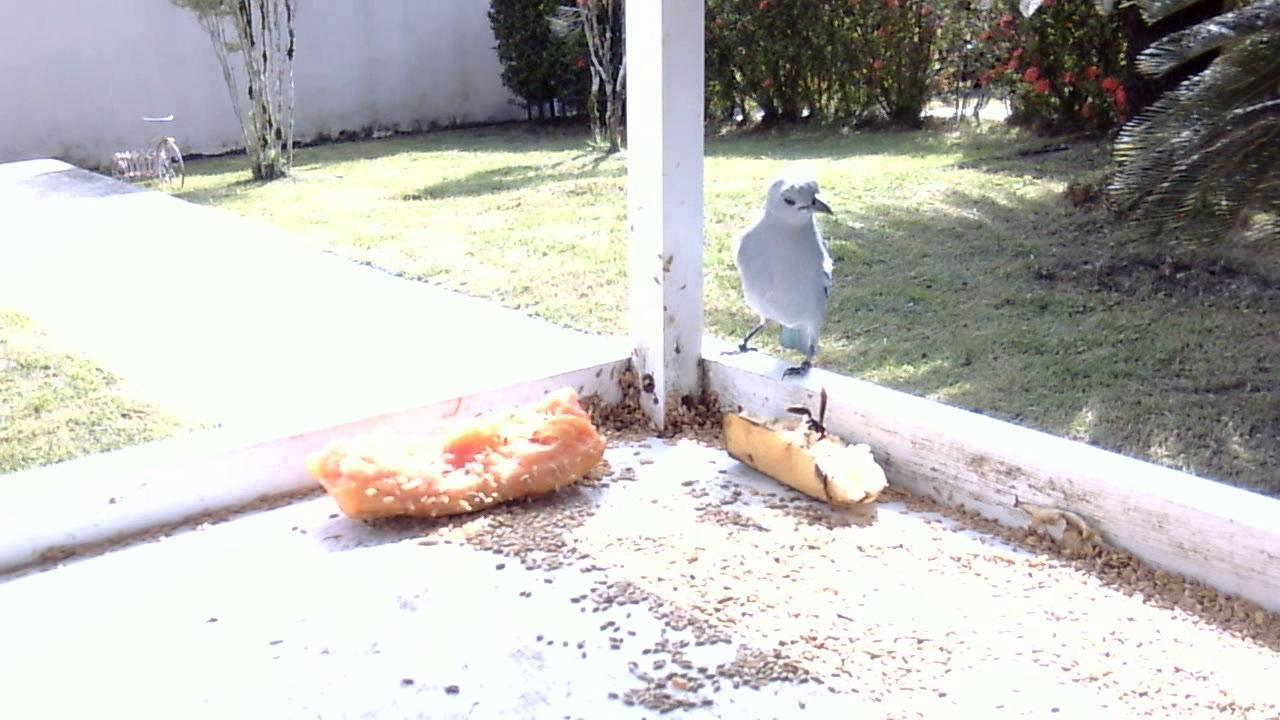sanhaco_da_amazonia: (720, 163, 840, 437)
